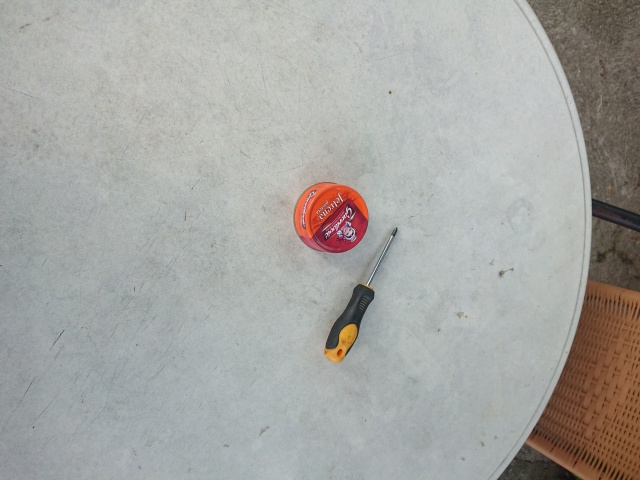Gavrilovic Pork Liver Pate 100g: (291, 179, 371, 255)
